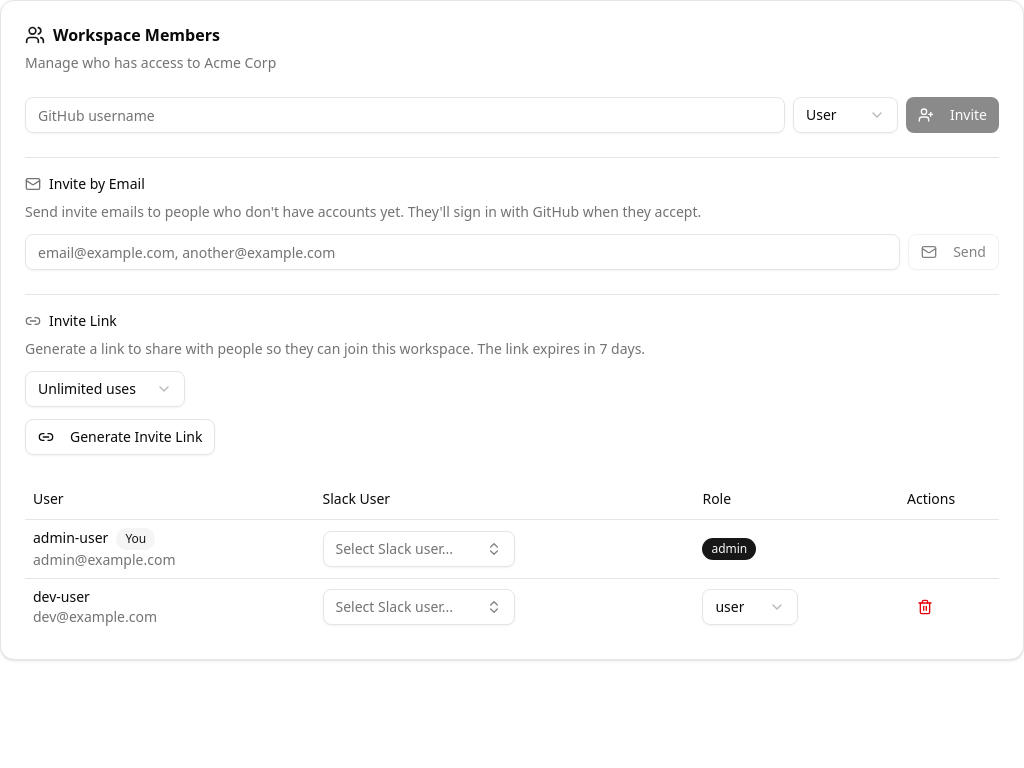
Test: MembersManagement › shows error when invite fails
Expected: the text "admin-user" is shown, [33,528,108,546]
In the field with placeholder "GitHub username": [405, 115] box [25,97,785,133], type "bad-user"
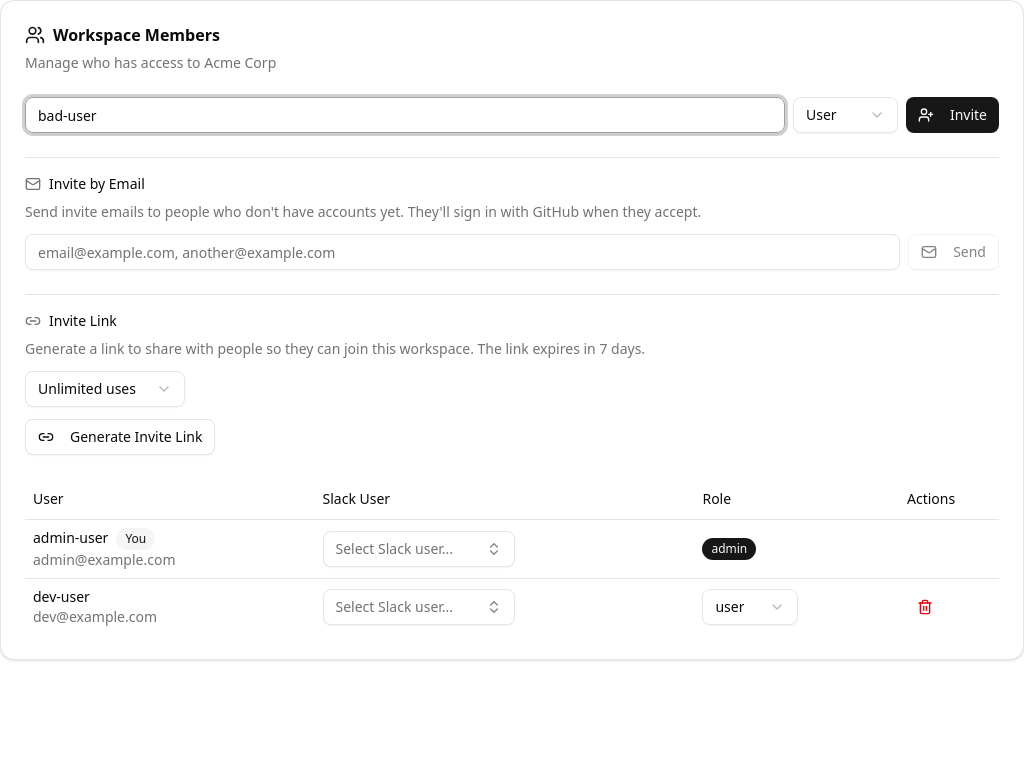
Click the button "Invite": [952, 115] box [906,97,999,133]
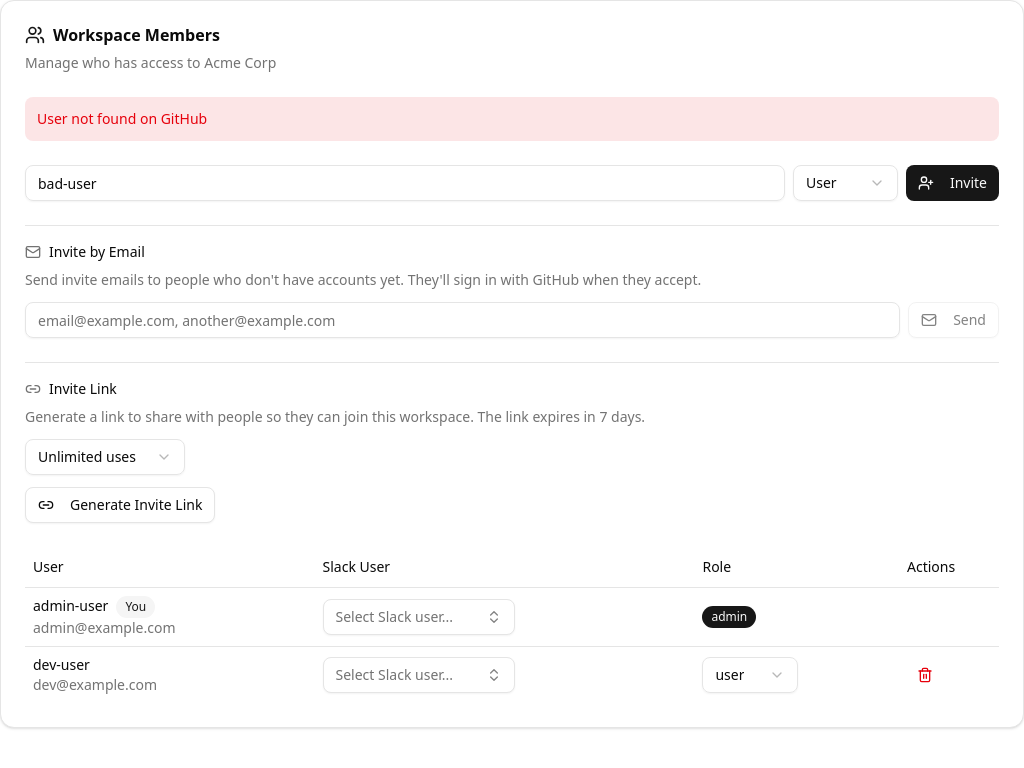
Now the text "User not found on GitHub" is shown, box [25,97,999,141]
